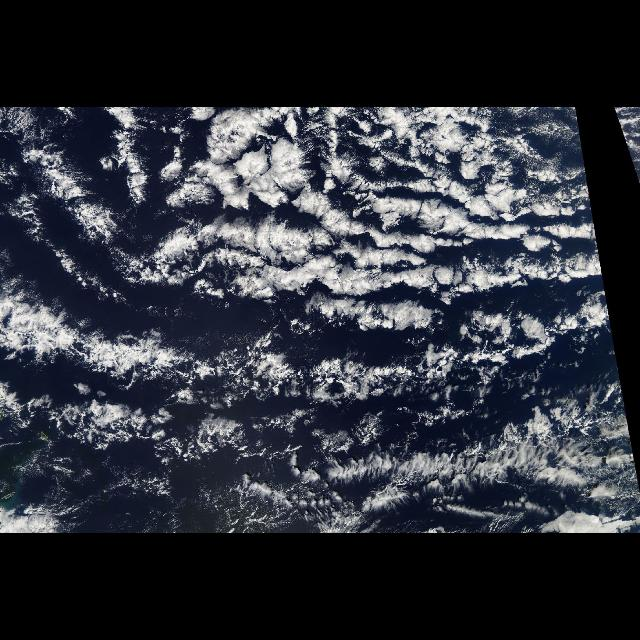Fish: (1, 286, 634, 532)
Flower: (160, 114, 584, 306)
